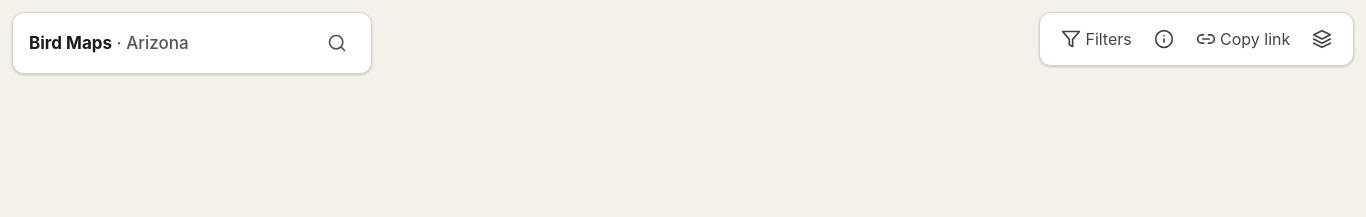
Scenario: <AppHeader> › clicking 🔍 expands the scope form in place (aria-expanded → true; divider appears)
The width and height of the screenshot is (1366, 217).
Click the button named "change region".
click(337, 43)  # box [319,25,355,61]
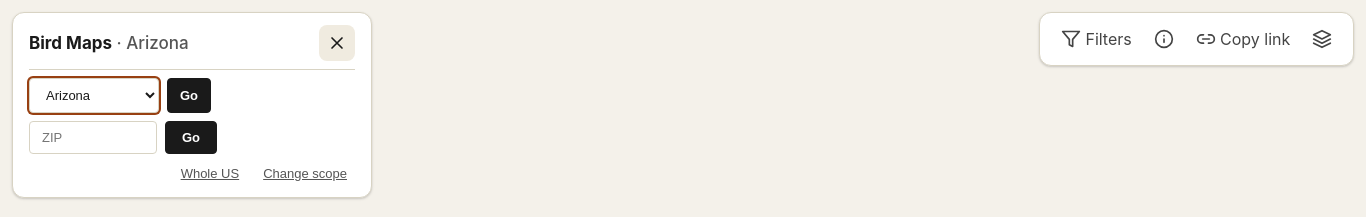
Check: the button named "change region" is expanded, box [319,25,355,61]
